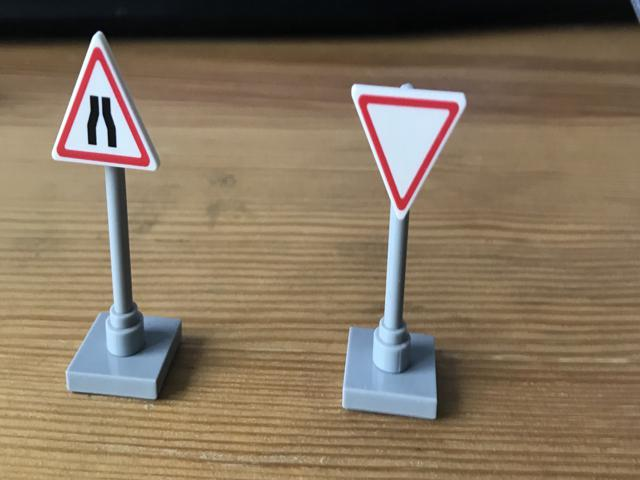verengte fahrbahn: (53, 35, 159, 171)
vorfahrt gewähren: (341, 87, 466, 211)
